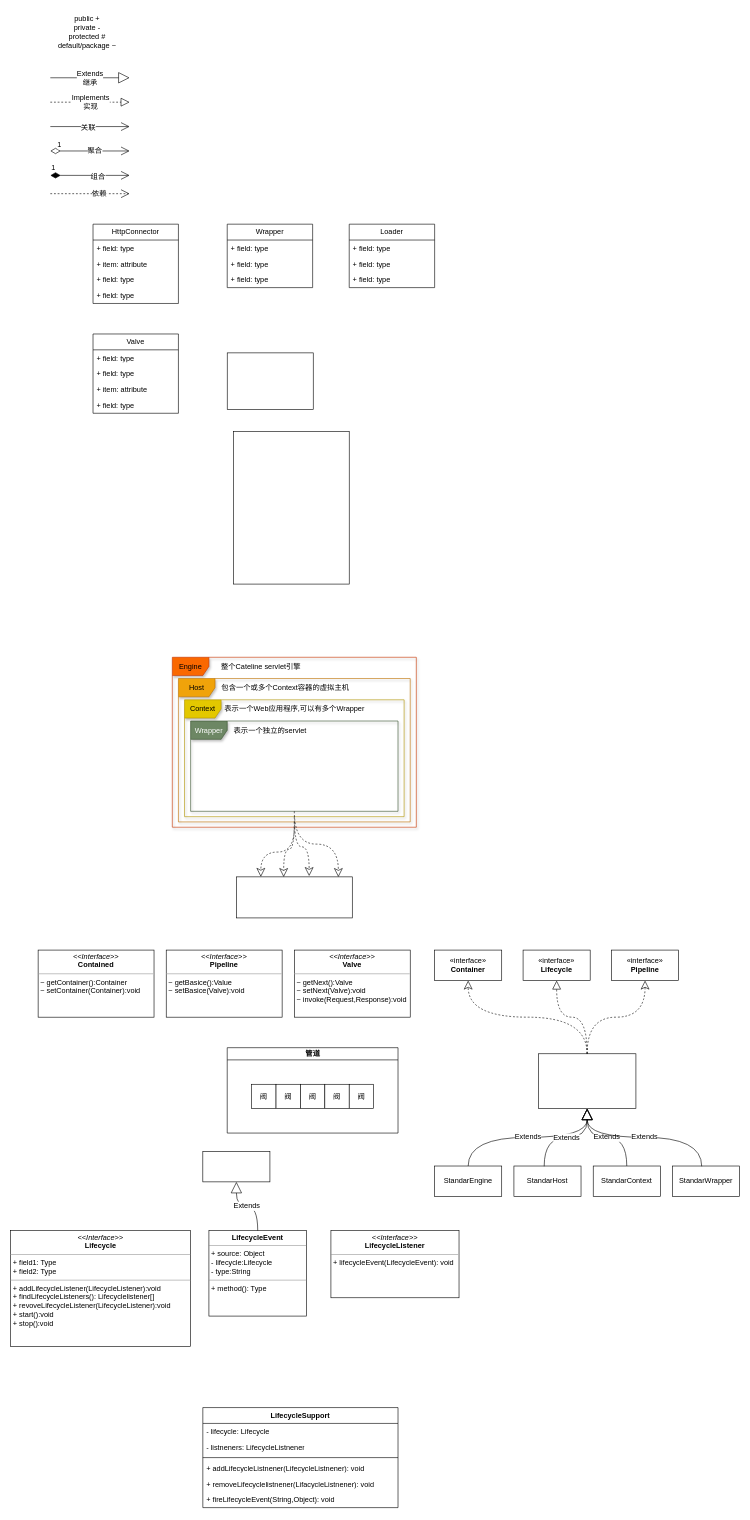
This 750x1520 diagram has some shape labels left out. Each missing label, with the centre of its shape:
<<Interface>> Container: the point at 294,897
<<Interface>> Valve + method1(Type): Type + method2(Type, Type): Type: the point at 291,507
A:Object:ContainerBase #lifecycle =LifecycleSupport: the point at 587,1081
EventObject: the point at 236,1166
«interface» Valve invoke() Valve getNext() setNext(Valve ): the point at 270,381
